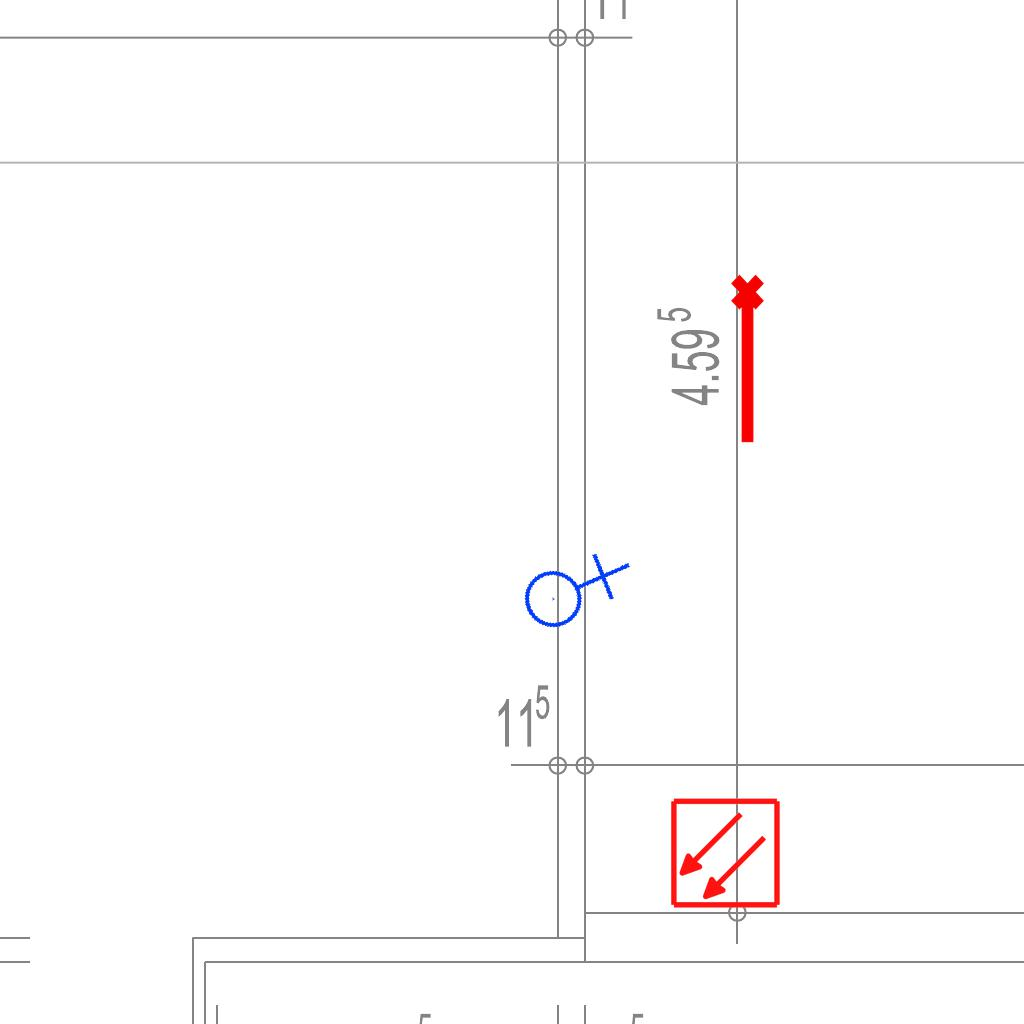ASR_Ansaugoeffnung: (727, 272, 773, 448)
Elektroanschluss_allgemein_230V_Geraeteanschlussdose_230V: (507, 525, 634, 649)
RMO_Rauchmelder_optischer: (669, 797, 782, 910)
